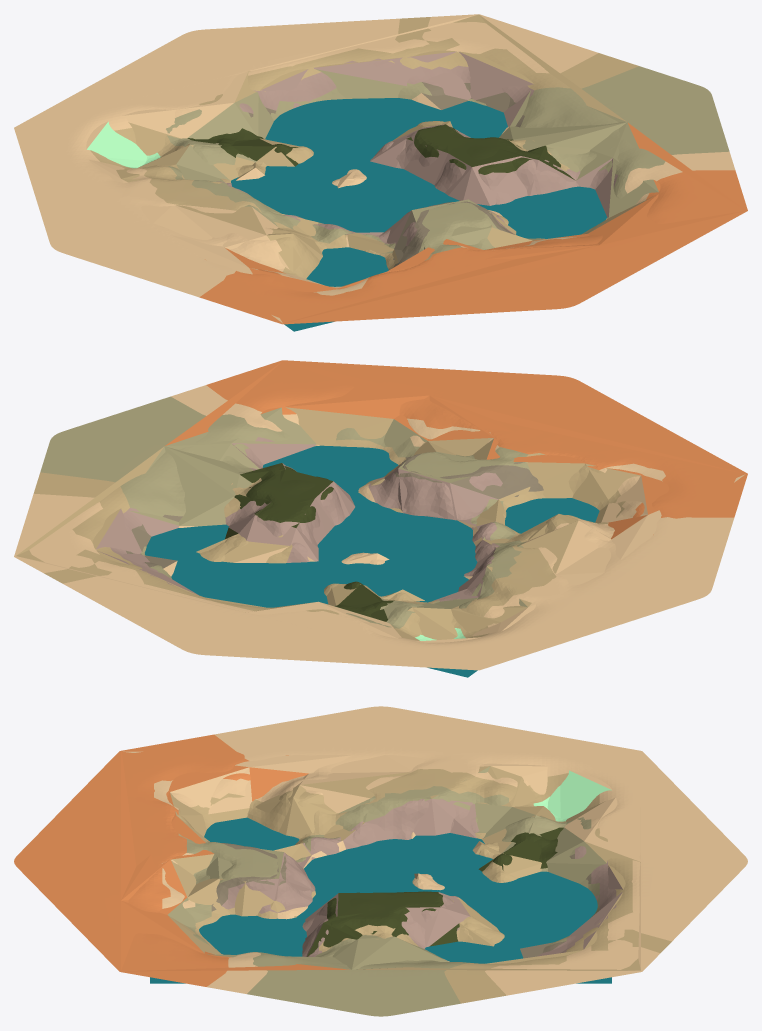
The model's file is Landscape_HD.fbx.
3 renders of one model, top to bottom at view 1: azimuth 30°, elevation 25°; view 2: azimuth 150°, elevation 25°; view 3: azimuth 270°, elevation 25°, orthographic. The views are drawn at different scales.
Visible parts, largest first — view 1: MainLandHD, MainLandCol, WaterPlane; view 2: MainLandHD, MainLandCol, WaterPlane; view 3: MainLandHD, MainLandCol, WaterPlane.
Boxes of the visible parts, box(x1,y1,x2,y2) form: MainLandHD: box(14, 14, 747, 324); MainLandCol: box(86, 14, 745, 323); WaterPlane: box(231, 98, 607, 331); MainLandHD: box(14, 360, 747, 670); MainLandCol: box(16, 361, 745, 642); WaterPlane: box(145, 445, 599, 677); MainLandHD: box(14, 706, 747, 1016); MainLandCol: box(121, 751, 640, 971); WaterPlane: box(150, 817, 611, 983).
Bounding box in the file's own units: 2117220 × 206214 × 2117219.
